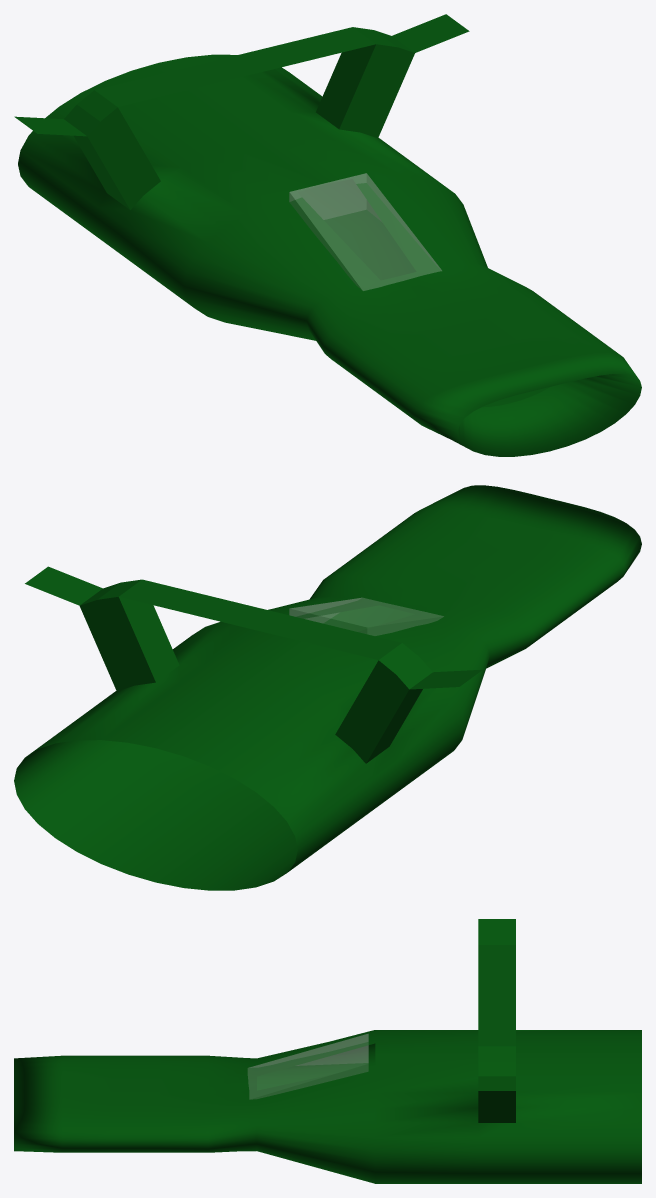
Rendered from spacecrap.dae.
3 views of the same model, one above another, from view 1: azimuth 30°, elevation 25°; view 2: azimuth 150°, elevation 25°; view 3: azimuth 270°, elevation 25° (orthographic). The views are drawn at different scales.
Visible parts, largest first — view 1: Cube; view 2: Cube; view 3: Cube.
Boxes of the visible parts, x1,y1,x2,y2 form: Cube: (14, 14, 641, 456); Cube: (14, 485, 641, 890); Cube: (14, 919, 641, 1183).
Bounding box in the file's own units: 3.85 × 6.03 × 1.69.
